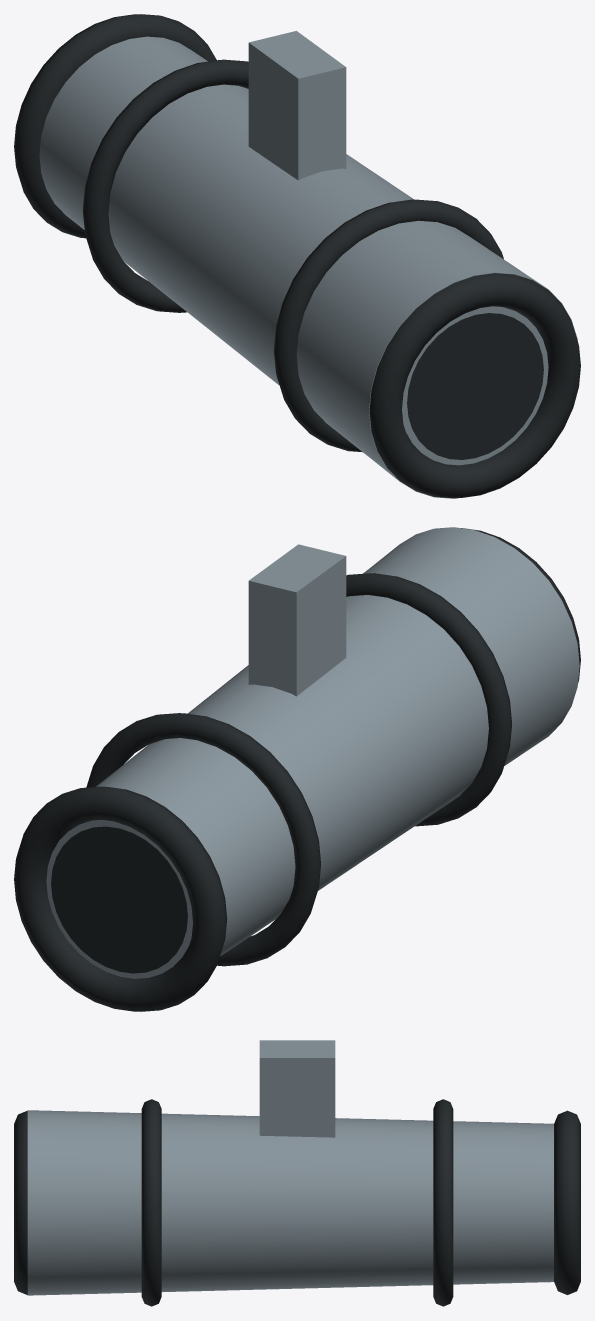
The model's file is exhaust-compact.glb.
3 renders of one model, top to bottom at view 1: azimuth 30°, elevation 25°; view 2: azimuth 150°, elevation 25°; view 3: azimuth 270°, elevation 25°, orthographic. The views are drawn at different scales.
Visible parts, largest first — view 1: preset-exhaust-compact; view 2: preset-exhaust-compact; view 3: preset-exhaust-compact.
Boxes of the visible parts, x1=… form: preset-exhaust-compact: x1=14, y1=14, x2=580, y2=498; preset-exhaust-compact: x1=14, y1=527, x2=580, y2=1011; preset-exhaust-compact: x1=14, y1=1040, x2=580, y2=1306.
Bounding box in the file's own units: 0.1231 × 0.162 × 0.336.
